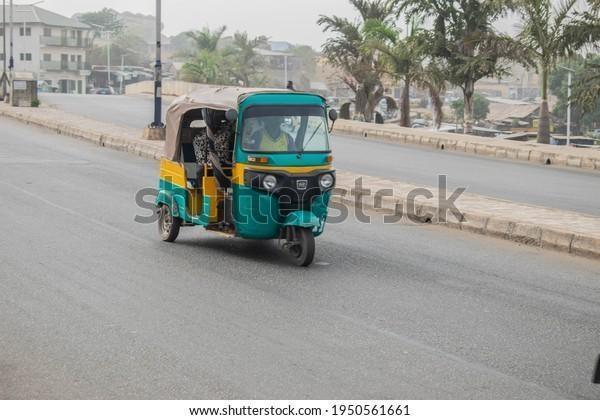keke: (161, 89, 339, 272)
